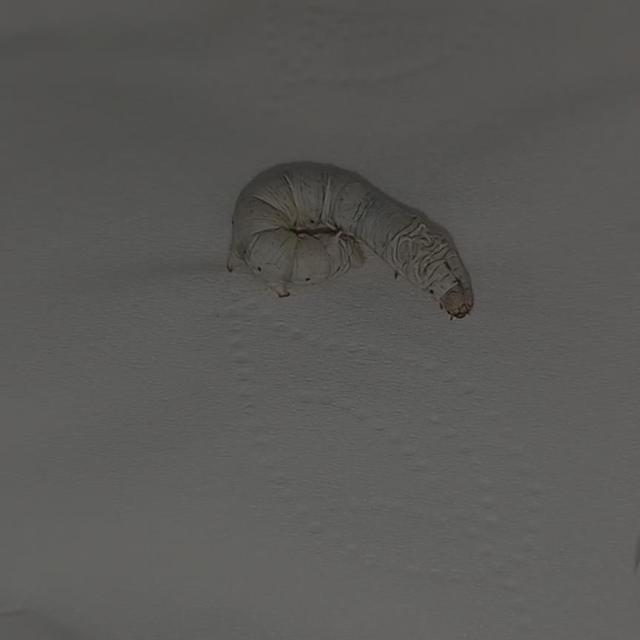Healthy: (216, 138, 506, 360)
